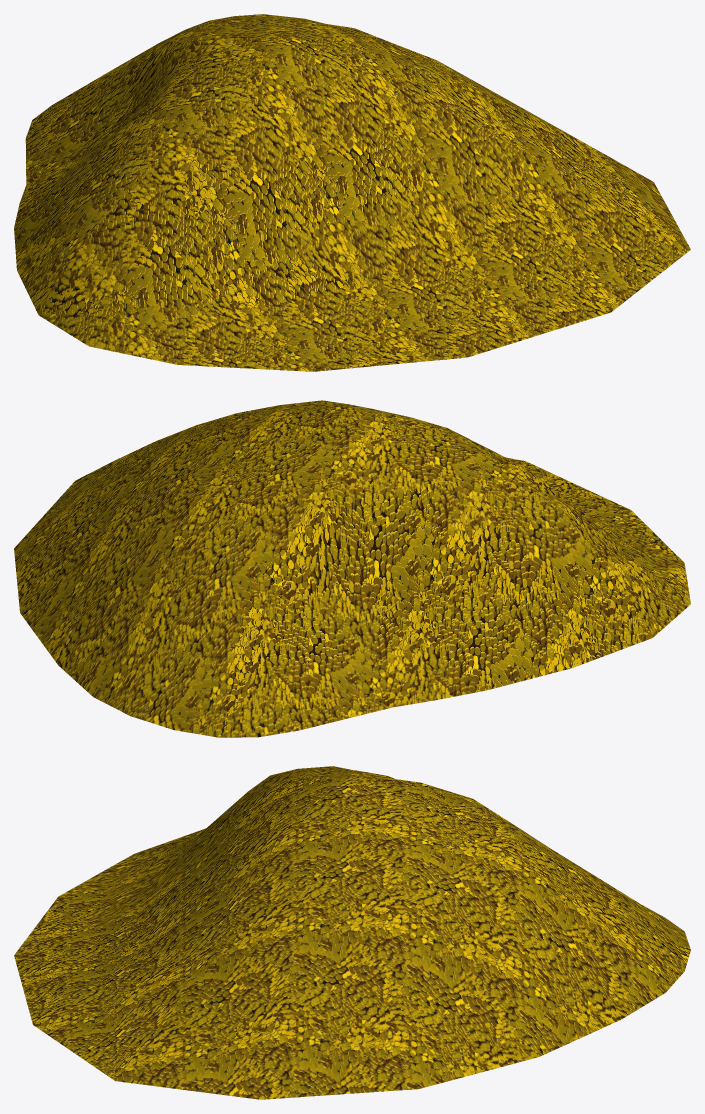
Rendered from INST_SM_GOLDPILE_LARGED.fbx.
3 views of the same model, one above another, from view 1: azimuth 30°, elevation 25°; view 2: azimuth 150°, elevation 25°; view 3: azimuth 270°, elevation 25° (orthographic). The views are drawn at different scales.
Parts seen in each view (by area): view 1: INST_SM_GOLDPILE_LARGED; view 2: INST_SM_GOLDPILE_LARGED; view 3: INST_SM_GOLDPILE_LARGED.
Boxes of the visible parts, x1,y1,x2,y2 form: INST_SM_GOLDPILE_LARGED: (14,14,690,371); INST_SM_GOLDPILE_LARGED: (14,400,690,737); INST_SM_GOLDPILE_LARGED: (14,766,690,1099).
Bounding box in the file's own units: 126250 × 37216 × 133750.
Materials: 1 (1 with a texture image).
